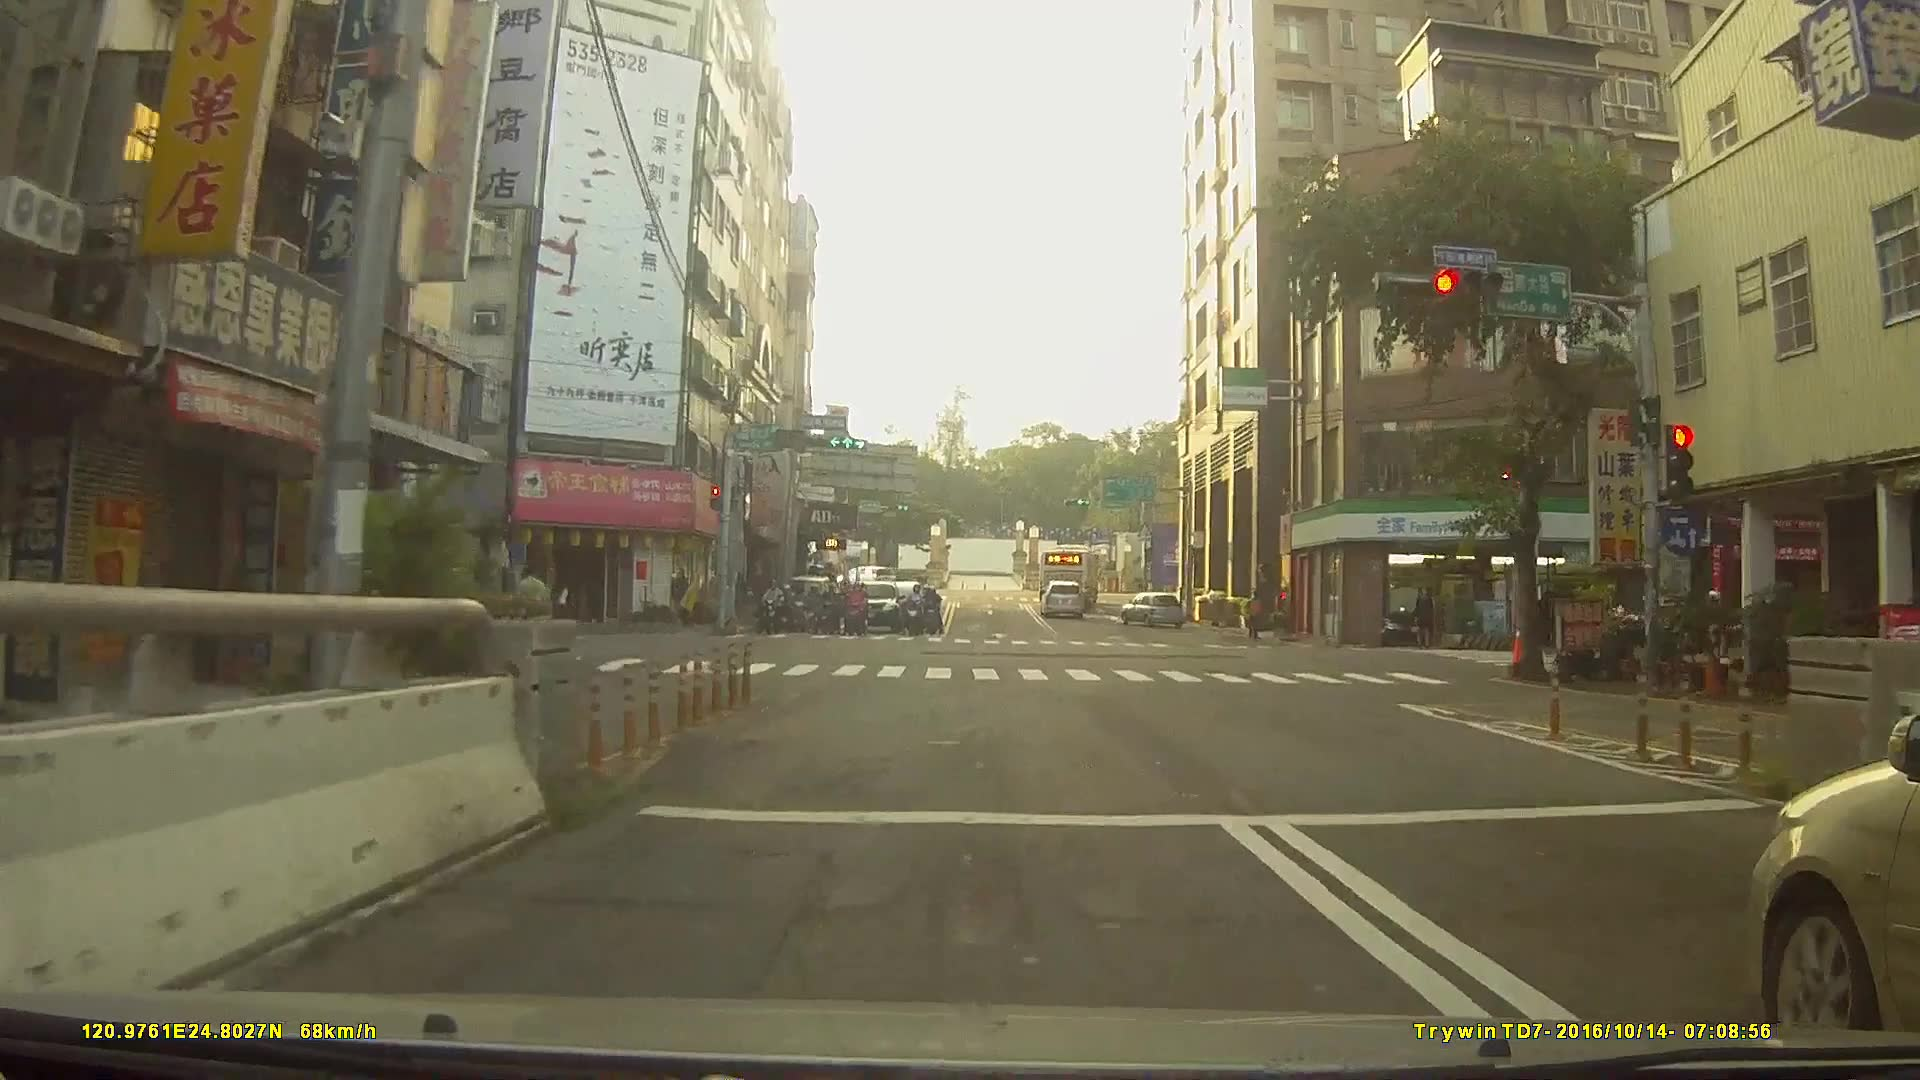pedestrian: (512, 563, 553, 660), (1404, 584, 1431, 649), (1245, 590, 1265, 642), (556, 579, 576, 624)
rider: (758, 576, 787, 636), (842, 583, 869, 638), (820, 582, 844, 638), (789, 585, 814, 635), (904, 585, 926, 637), (921, 594, 942, 645)
vehicle: (1751, 709, 1920, 1052), (1037, 542, 1104, 605), (843, 580, 902, 638), (1118, 588, 1185, 626), (1038, 579, 1088, 617), (837, 562, 894, 590)
